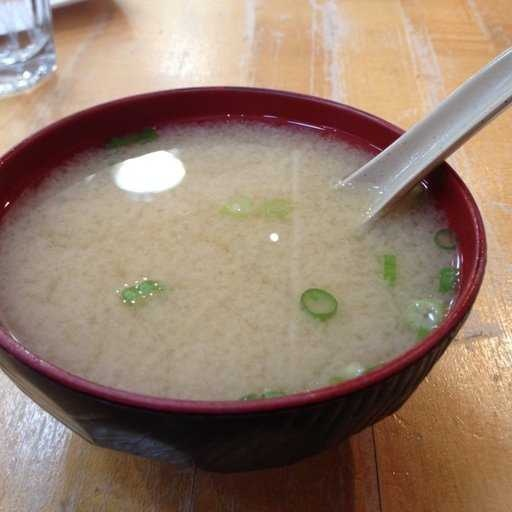soup: (1, 100, 476, 396)
